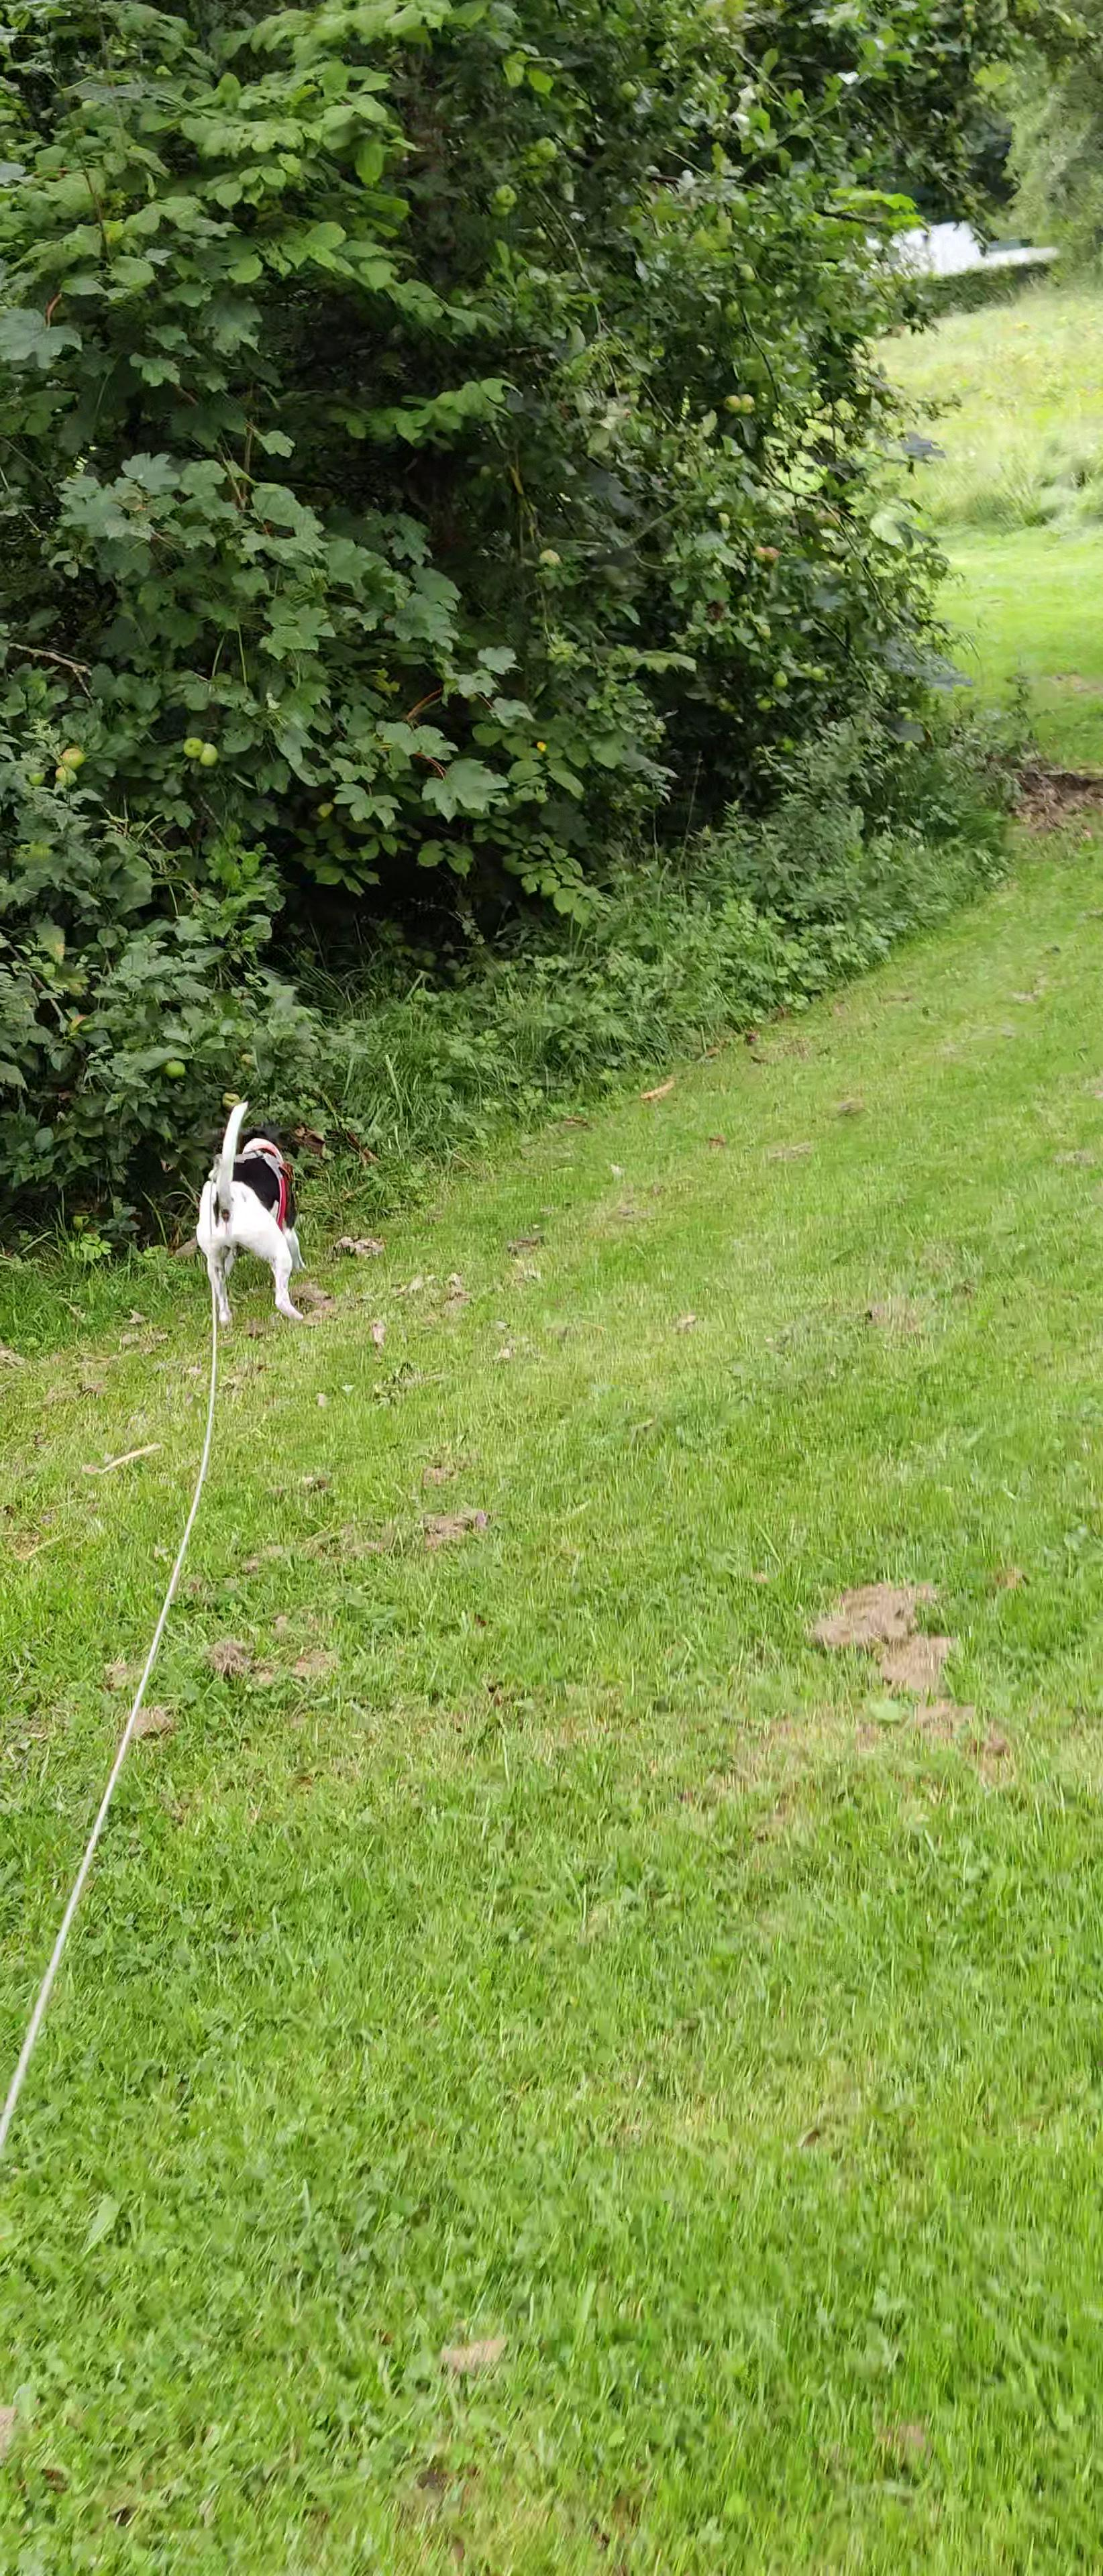Dog: (191, 1097, 311, 1329)
